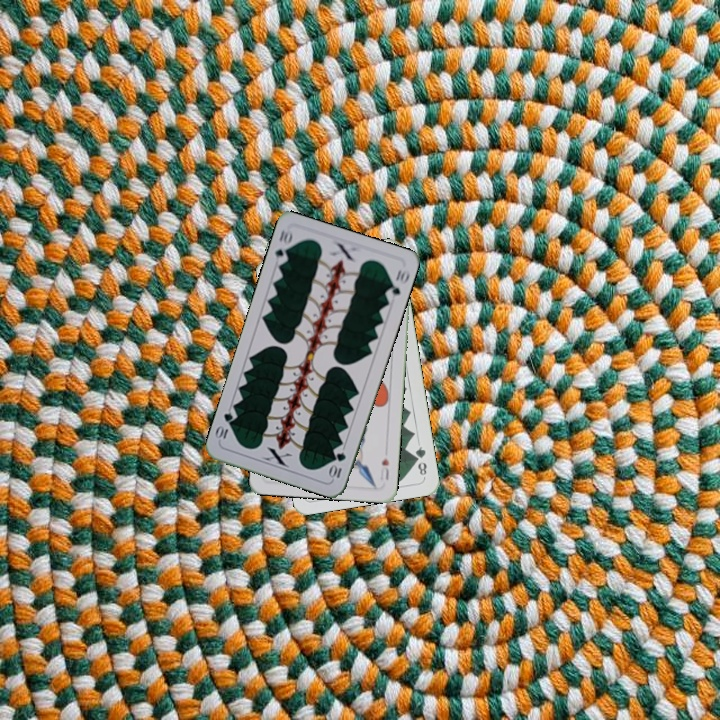G10: (271, 225, 295, 267), (325, 448, 348, 482)
G8: (411, 442, 429, 480)
HU: (376, 454, 391, 485)
